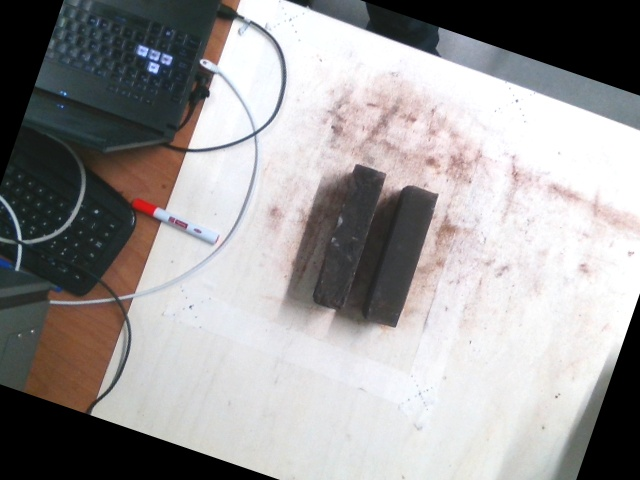brick-side: (310, 165, 387, 311), (364, 186, 439, 327)
